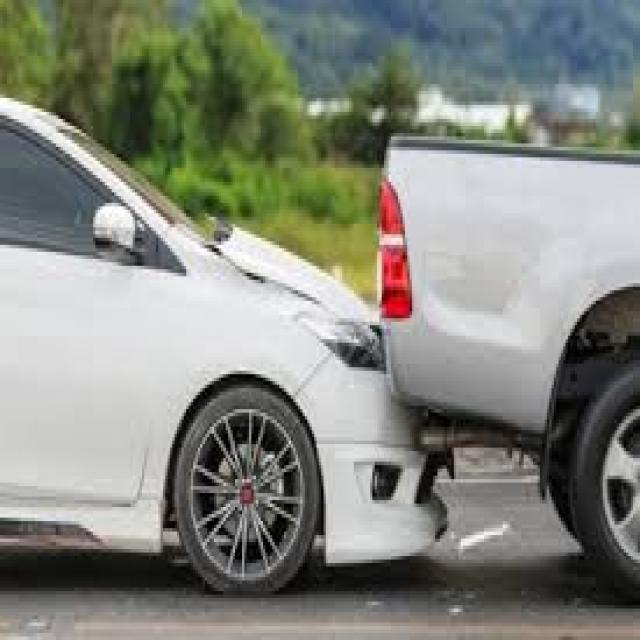accident: (150, 93, 558, 589)
